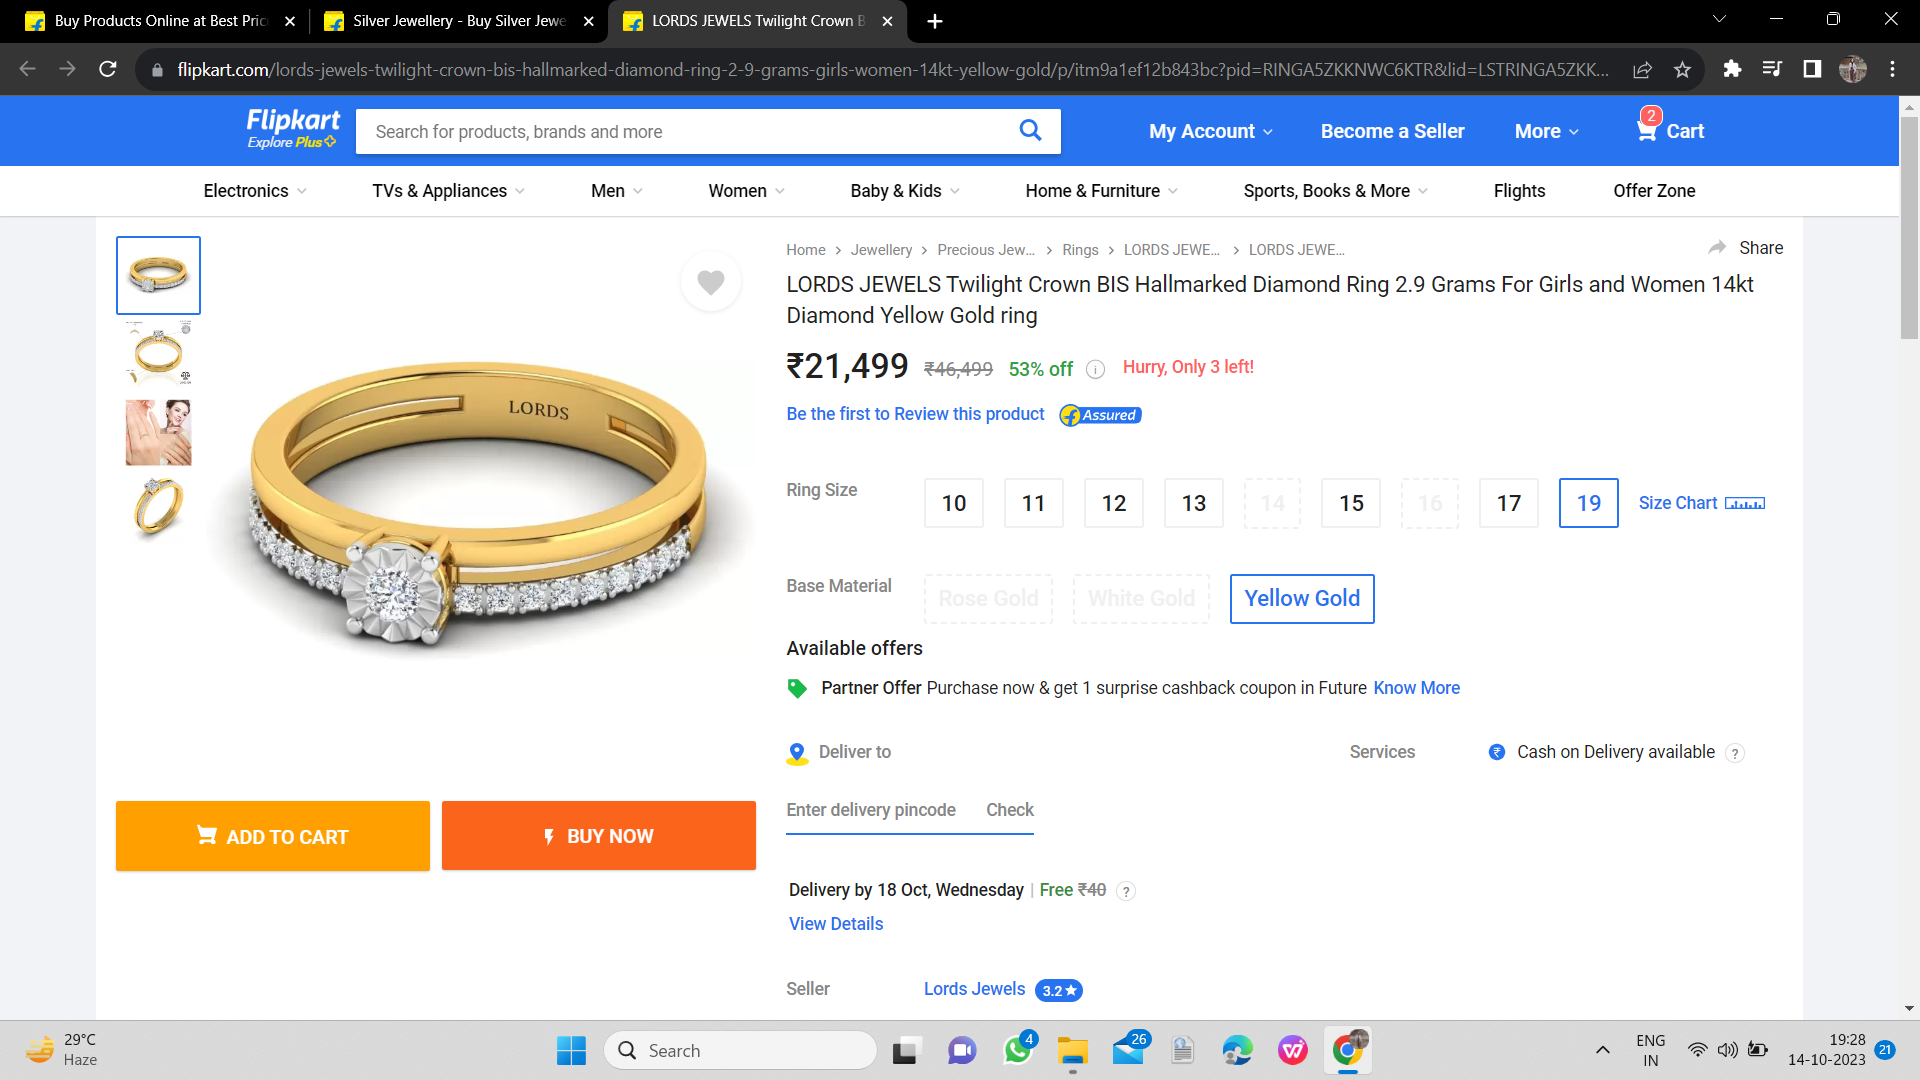Image: (211, 241, 756, 728)
Paragraph: (923, 463, 1768, 541), (100, 793, 771, 885), (771, 276, 1764, 334), (1142, 96, 1720, 158), (771, 673, 1474, 709), (779, 735, 1031, 831), (775, 344, 1266, 386), (1213, 559, 1396, 628), (1338, 737, 1724, 766), (771, 401, 1154, 430), (793, 873, 1023, 903), (765, 465, 868, 508), (789, 634, 920, 666), (782, 566, 903, 600)
